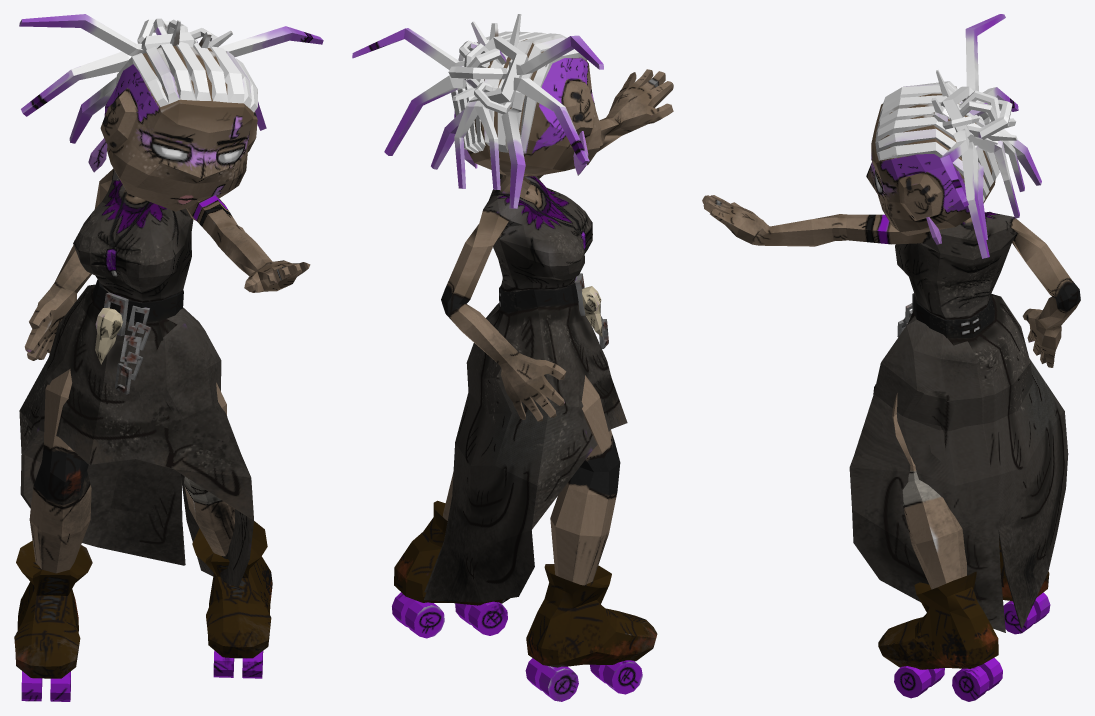
Rendered from bruja_000021.obj.
The picture shows the model from 3 angles, left to right: view 1: azimuth 30°, elevation 25°; view 2: azimuth 150°, elevation 25°; view 3: azimuth 270°, elevation 25°; orthographic projection. The views are drawn at different scales.
Visible parts, largest first — view 1: Bruja_Plane.001; view 2: Bruja_Plane.001; view 3: Bruja_Plane.001.
Part boxes in pixels (x1,y1,x2,y2): Bruja_Plane.001: [14, 14, 323, 701]; Bruja_Plane.001: [352, 14, 673, 701]; Bruja_Plane.001: [702, 14, 1080, 701].
Size of the model in its own units: 7.95 by 16.41 by 9.27.
